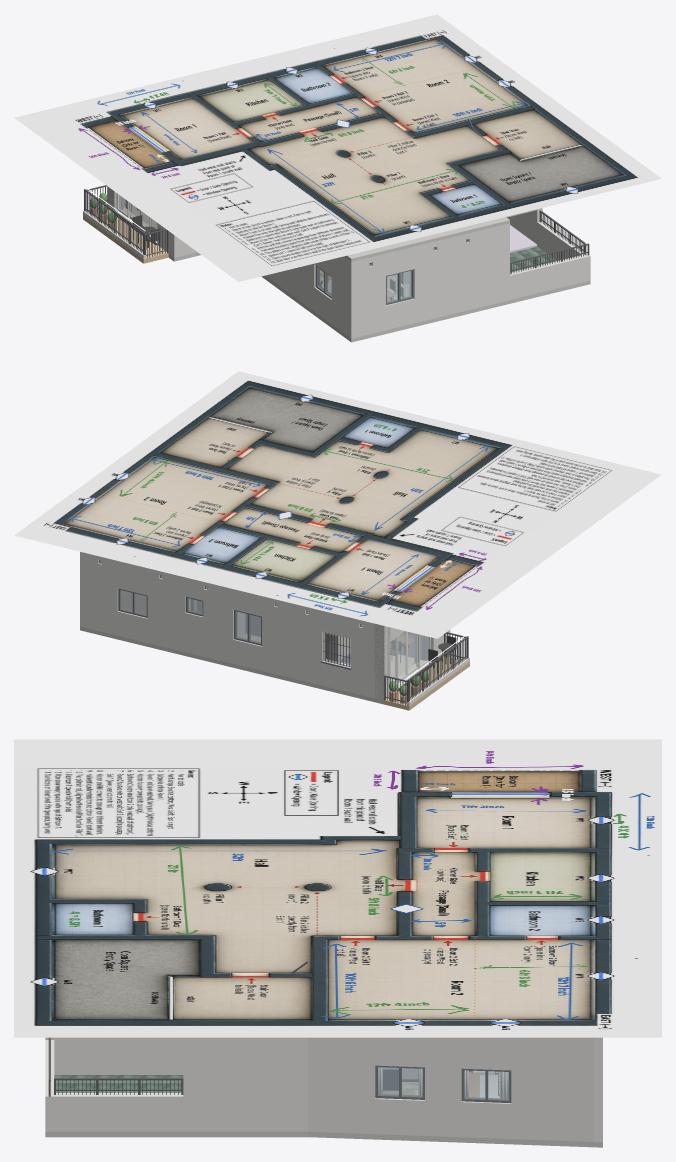
The model's file is MyFlat_V2_Room1_OPTION_D.glb.
The picture shows the model from 3 angles, top to bottom: view 1: azimuth 30°, elevation 25°; view 2: azimuth 150°, elevation 25°; view 3: azimuth 270°, elevation 25°; orthographic projection. The views are drawn at different scales.
Visible parts, largest first — view 1: PLAN_REFERENCE_OVERLAY, WALL_EXT_S_HALL, WALL_EXT_W_HALL, PARAPET_OPENSQ_S, SLAB_FLOOR_STRUCTURAL, BALCONY_RAILING_W, SLAB_ROOF, BALCONY_FLOOR, PARAPET_OPENSQ_E, RAILING_OPENSQ_S, WALL_EXT_E_STAIR, HBB_OPENSQ_FINISH (+3 smaller); view 2: PLAN_REFERENCE_OVERLAY, WALL_EXT_N_R1, WALL_EXT_N_R2, WALL_EXT_N_KIT, WALL_EXT_N_B2, BALCONY_RAILING_W, SLAB_FLOOR_STRUCTURAL, PILLAR_R1_NW, BALCONY_FLOOR, R1_OPD_BALCONY_CURTAIN_SHEER, WALL_EXT_W_R1_BALCONY, WINDOW_W2_GLASS; view 3: PLAN_REFERENCE_OVERLAY, WALL_EXT_E_R2_TAPERED, WALL_EXT_E_STAIR, PARAPET_OPENSQ_E, WALL_INT_OPENSQ_W, SLAB_FLOOR_STRUCTURAL, HBB_OPENSQ_FINISH, WINDOW_W5_GLASS, WINDOW_W6_GLASS, RAILING_OPENSQ_E, WALL_EXT_N_R2, PARAPET_OPENSQ_S (+2 smaller).
Part boxes in pixels (x1,y1,x2,y2): PLAN_REFERENCE_OVERLAY: [14, 14, 661, 281]; WALL_EXT_S_HALL: [348, 223, 509, 338]; WALL_EXT_W_HALL: [265, 256, 356, 338]; PARAPET_OPENSQ_S: [510, 254, 590, 299]; SLAB_FLOOR_STRUCTURAL: [168, 252, 590, 342]; BALCONY_RAILING_W: [84, 189, 145, 254]; SLAB_ROOF: [344, 217, 509, 261]; BALCONY_FLOOR: [83, 210, 168, 263]; PARAPET_OPENSQ_E: [537, 221, 587, 260]; RAILING_OPENSQ_S: [510, 243, 589, 274]; WALL_EXT_E_STAIR: [507, 208, 542, 244]; HBB_OPENSQ_FINISH: [510, 246, 556, 272]; PLAN_REFERENCE_OVERLAY: [14, 371, 661, 638]; WALL_EXT_N_R1: [283, 601, 387, 700]; WALL_EXT_N_R2: [80, 553, 176, 649]; WALL_EXT_N_KIT: [211, 584, 283, 676]; WALL_EXT_N_B2: [177, 575, 211, 658]; BALCONY_RAILING_W: [407, 636, 468, 701]; SLAB_FLOOR_STRUCTURAL: [80, 626, 449, 704]; PILLAR_R1_NW: [374, 623, 390, 700]; BALCONY_FLOOR: [384, 657, 469, 710]; R1_OPD_BALCONY_CURTAIN_SHEER: [390, 632, 421, 680]; WALL_EXT_W_R1_BALCONY: [375, 624, 449, 698]; WINDOW_W2_GLASS: [236, 611, 260, 642]; PLAN_REFERENCE_OVERLAY: [14, 739, 661, 1037]; WALL_EXT_E_R2_TAPERED: [307, 1037, 594, 1141]; WALL_EXT_E_STAIR: [183, 1037, 307, 1131]; PARAPET_OPENSQ_E: [54, 1093, 183, 1131]; WALL_INT_OPENSQ_W: [54, 1037, 183, 1074]; SLAB_FLOOR_STRUCTURAL: [45, 1131, 602, 1147]; HBB_OPENSQ_FINISH: [54, 1075, 183, 1092]; WINDOW_W5_GLASS: [464, 1070, 508, 1099]; WINDOW_W6_GLASS: [378, 1067, 422, 1096]; RAILING_OPENSQ_E: [54, 1078, 183, 1094]; WALL_EXT_N_R2: [594, 1037, 602, 1142]; PARAPET_OPENSQ_S: [45, 1040, 54, 1131].
Size of what is drawn, in the model's own units: 18.03 by 4.33 by 16.55.
129 materials, 7 textured.
